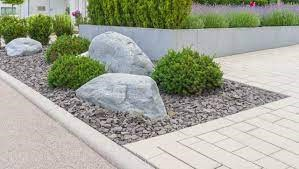rock: (76, 71, 167, 120), (87, 30, 156, 77), (5, 37, 43, 57)
